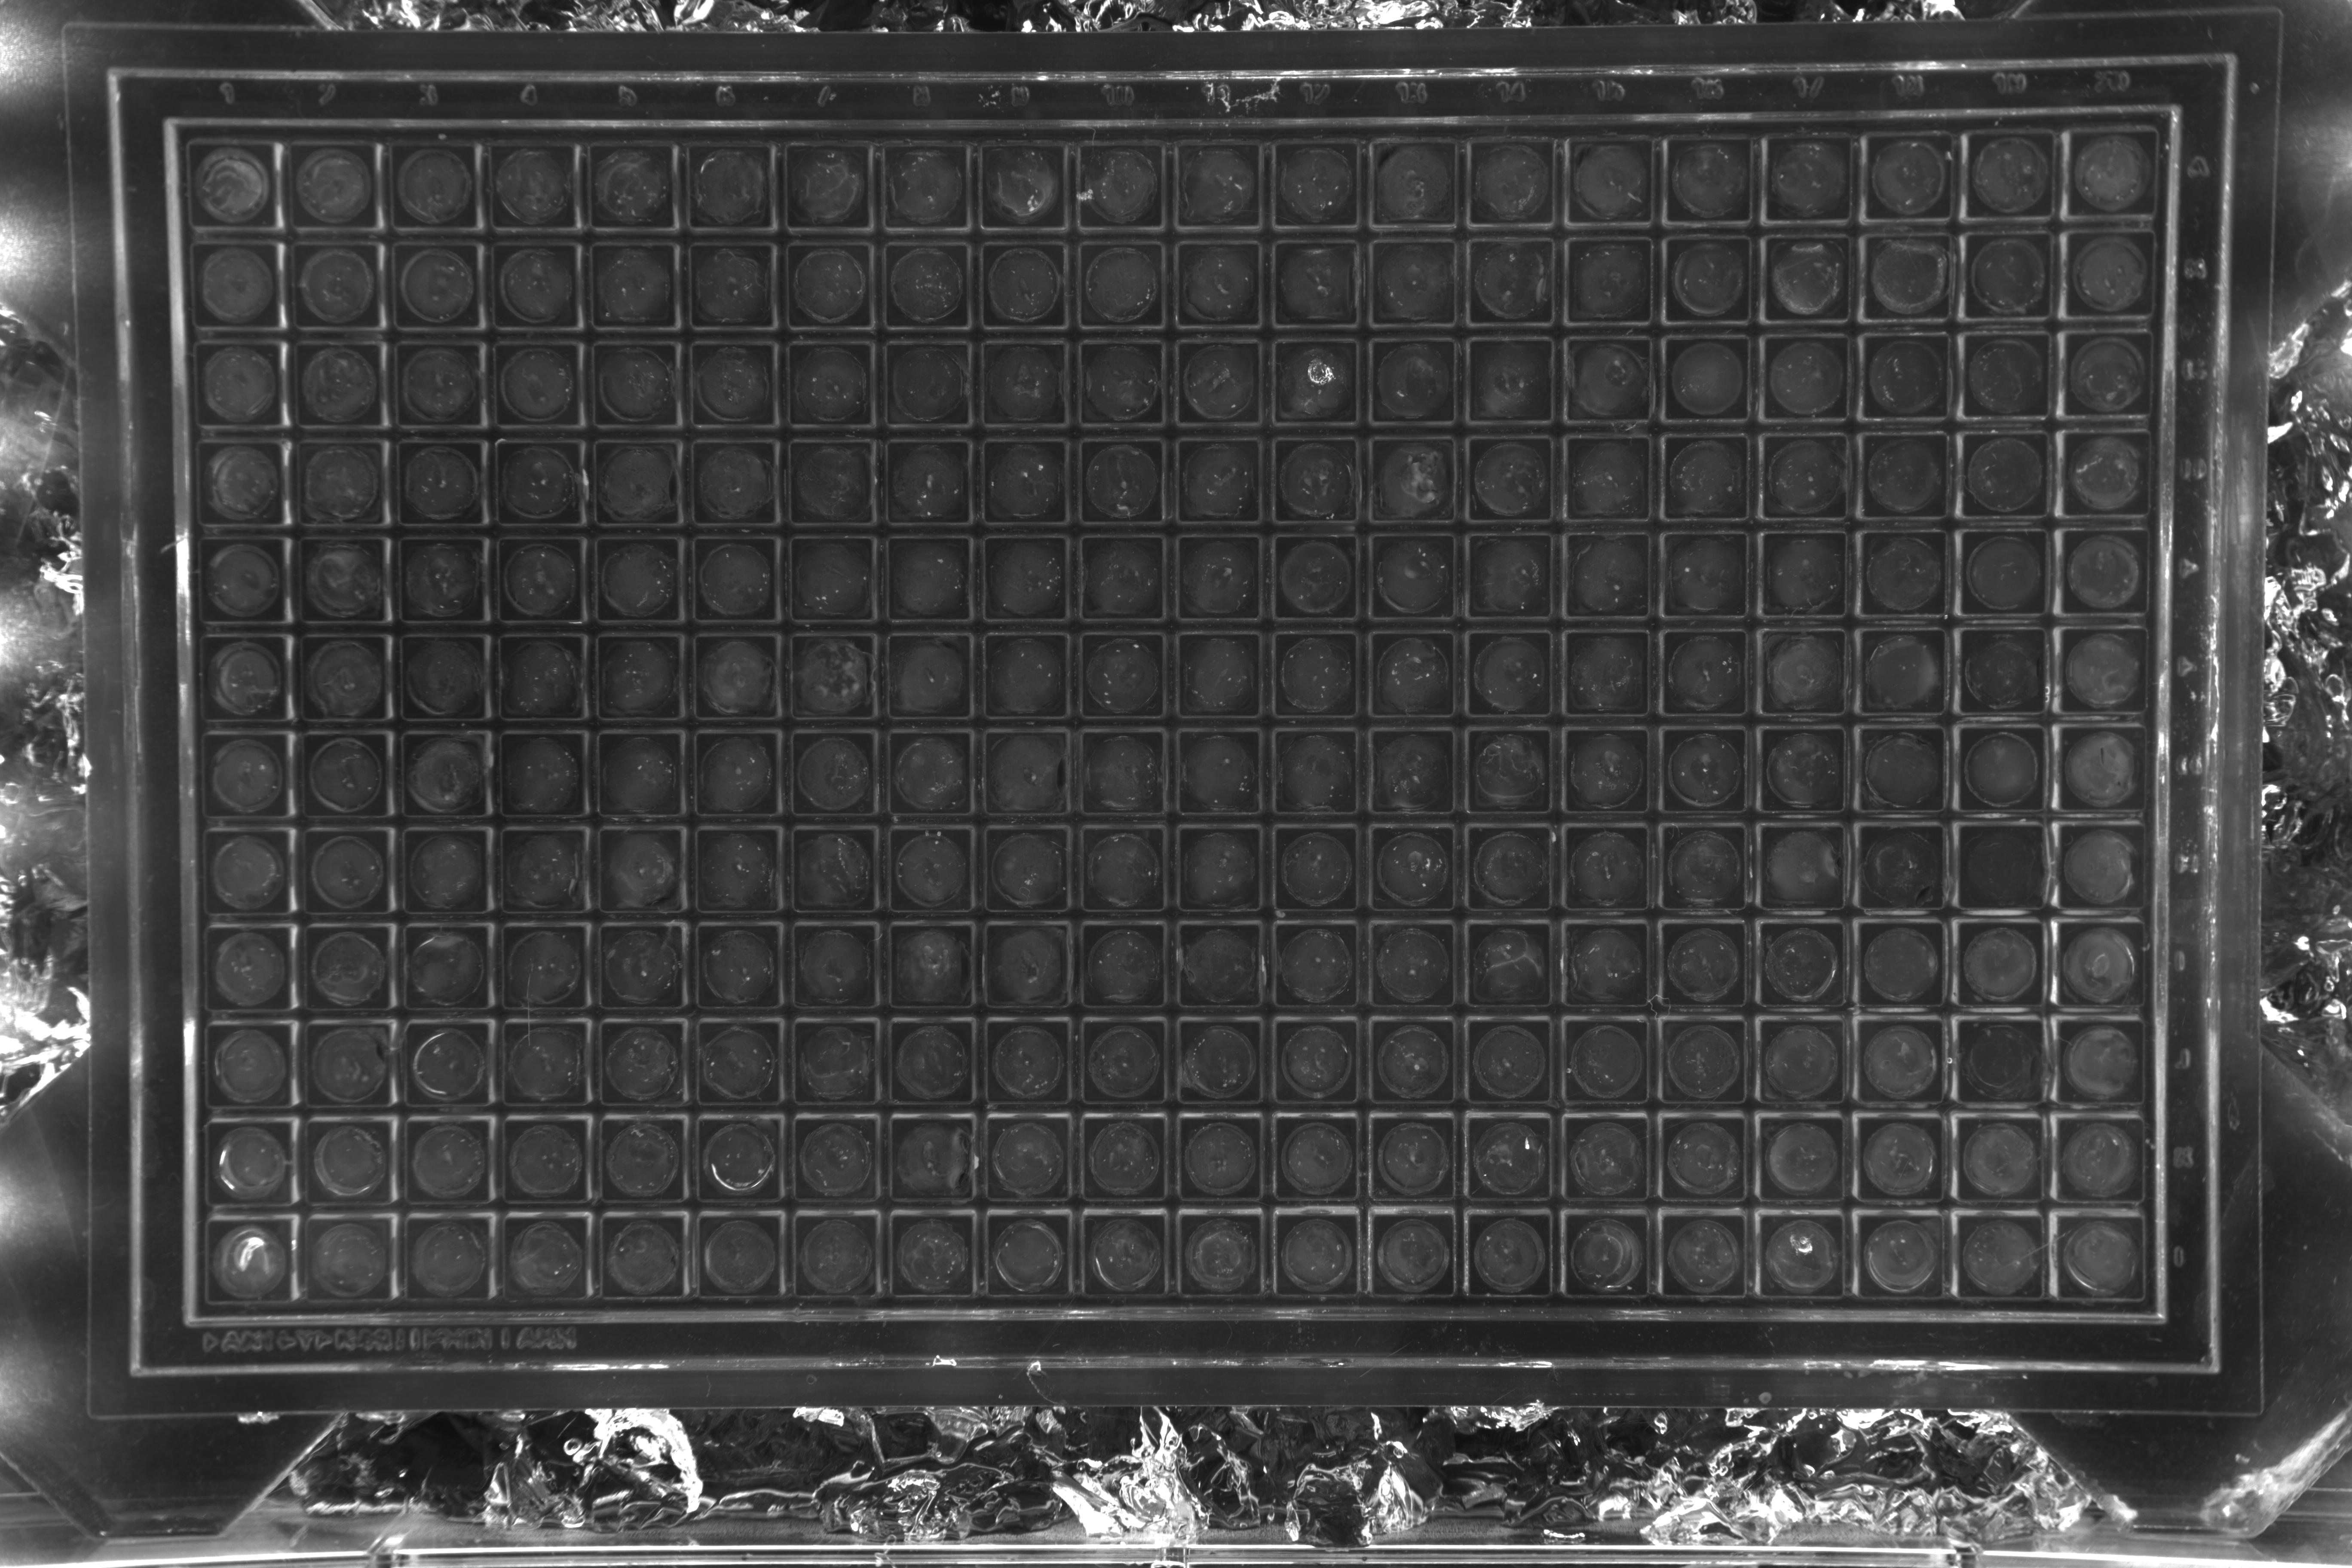WM_well: (688, 436, 777, 523), (2061, 327, 2151, 415), (192, 236, 280, 324), (301, 731, 388, 819), (303, 926, 390, 1013), (390, 238, 478, 325), (486, 140, 574, 227), (595, 730, 682, 817), (688, 338, 775, 425), (887, 1211, 975, 1298), (983, 1113, 1071, 1200), (1078, 142, 1165, 229), (1176, 1017, 1263, 1104), (1372, 138, 1459, 226), (1465, 1017, 1552, 1104), (1470, 138, 1557, 226), (1561, 1211, 1648, 1298), (1662, 628, 1750, 716), (1760, 724, 1848, 812), (1762, 528, 1850, 616), (1766, 133, 1853, 220), (1862, 528, 1949, 616), (1962, 427, 2049, 514), (2054, 1213, 2142, 1300)
